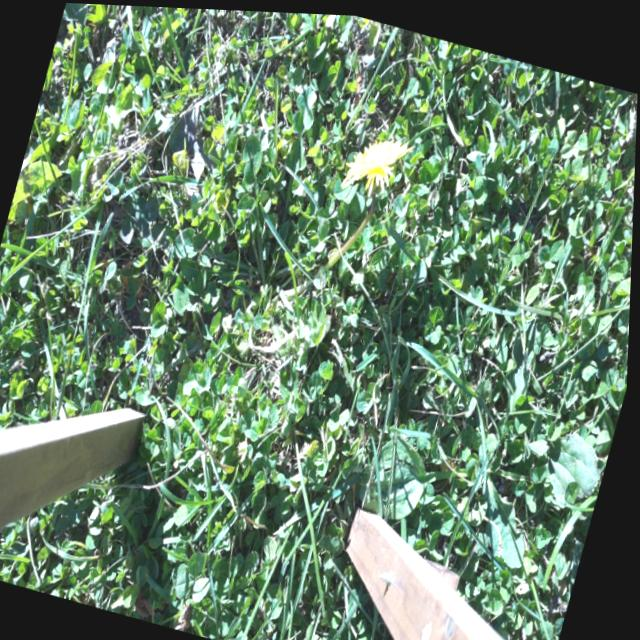base: (253, 272, 295, 326)
flower: (342, 124, 412, 196)
